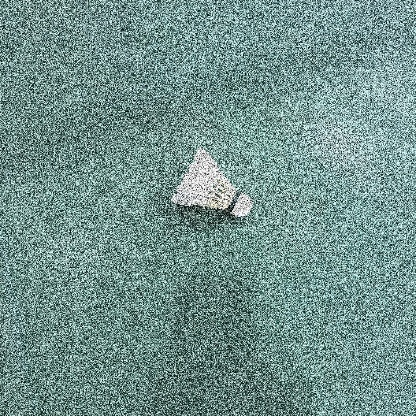ball_single: (171, 147, 252, 217)
